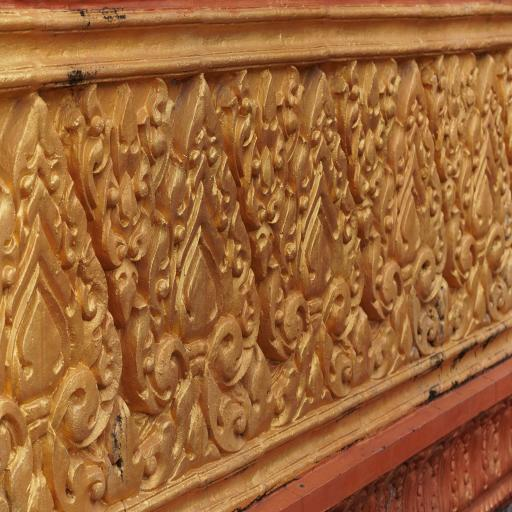lua: (114, 66, 275, 481), (0, 86, 130, 512), (239, 52, 385, 414), (53, 76, 188, 324), (357, 54, 452, 362), (206, 52, 305, 280), (449, 57, 512, 339), (325, 55, 409, 216), (419, 50, 484, 218)
